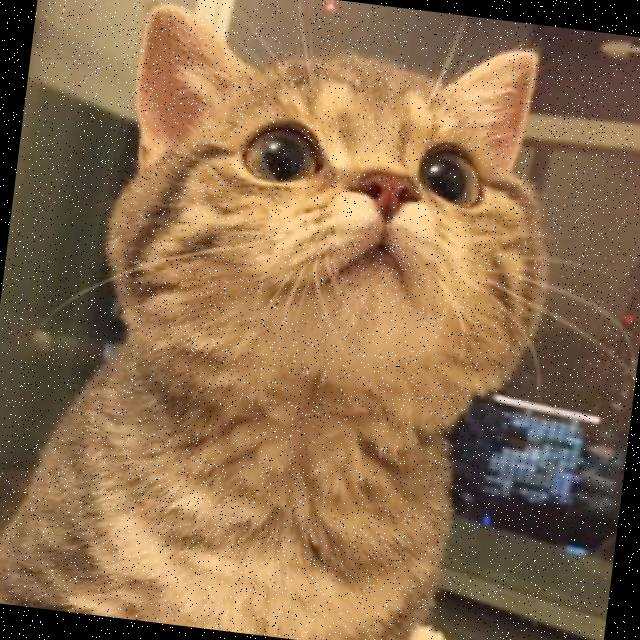Happy: (182, 70, 521, 376)
